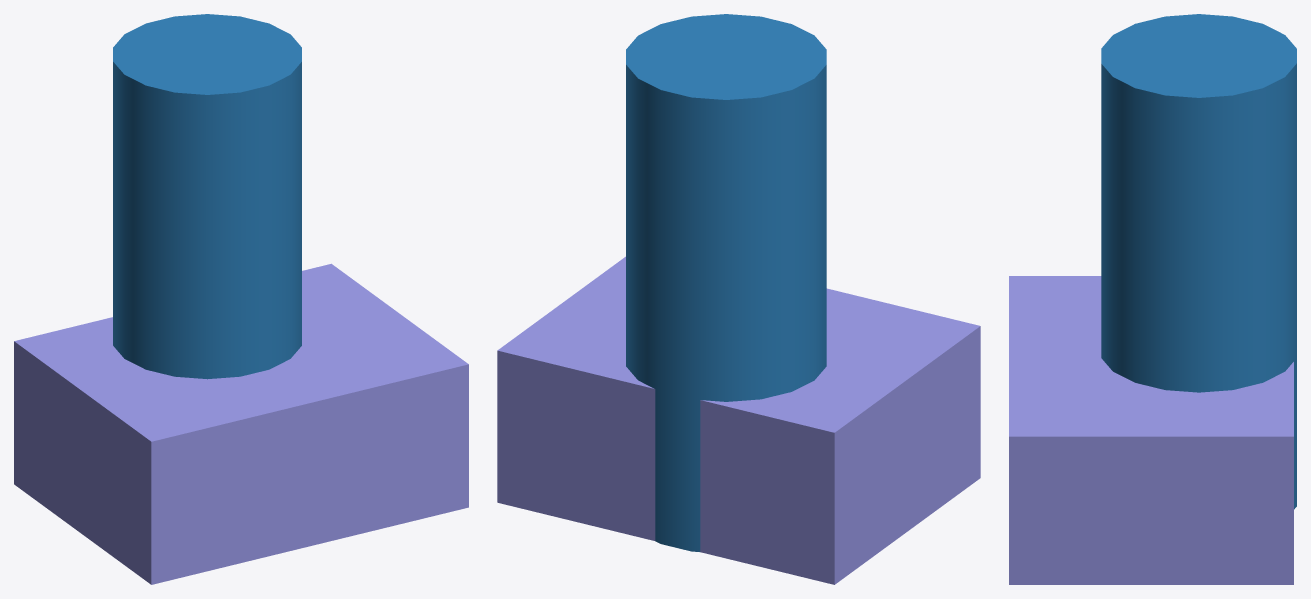
The model's file is simple.gltf.
3 renders of one model, left to right at view 1: azimuth 30°, elevation 25°; view 2: azimuth 150°, elevation 25°; view 3: azimuth 270°, elevation 25°, orthographic. The views are drawn at different scales.
Parts seen in each view (by area): view 1: Box001, Cylinder001; view 2: Box001, Cylinder001; view 3: Cylinder001, Box001.
Part boxes in pixels (x1,y1,x2,y2): Box001: [14, 263, 468, 584]; Cylinder001: [113, 14, 301, 379]; Box001: [497, 256, 980, 584]; Cylinder001: [626, 14, 826, 551]; Cylinder001: [1101, 14, 1296, 509]; Box001: [1009, 276, 1293, 584].
Size of the model in its own units: 67.89 by 87.33 by 51.43.
